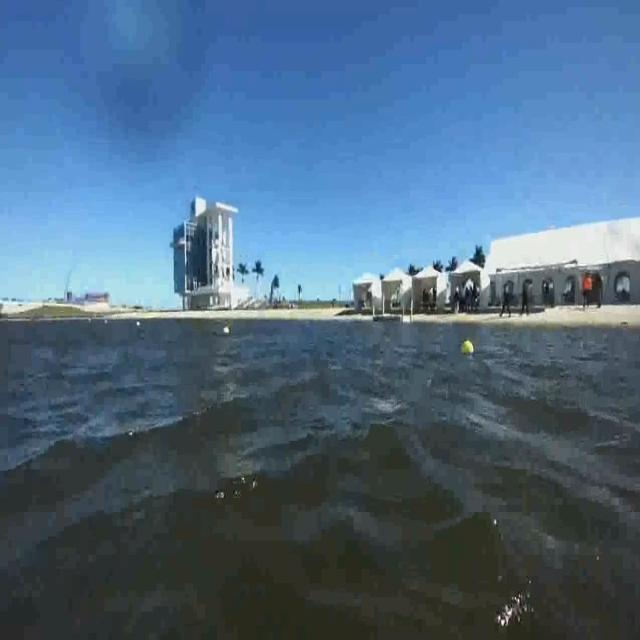yellow-buoy: (462, 339, 475, 357)
